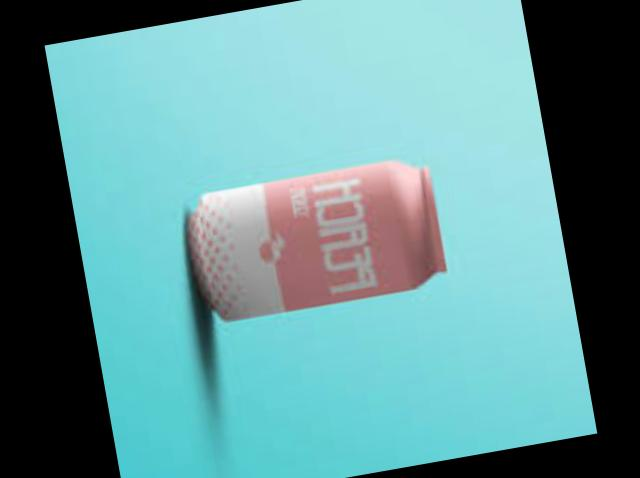metal: (192, 166, 448, 322)
